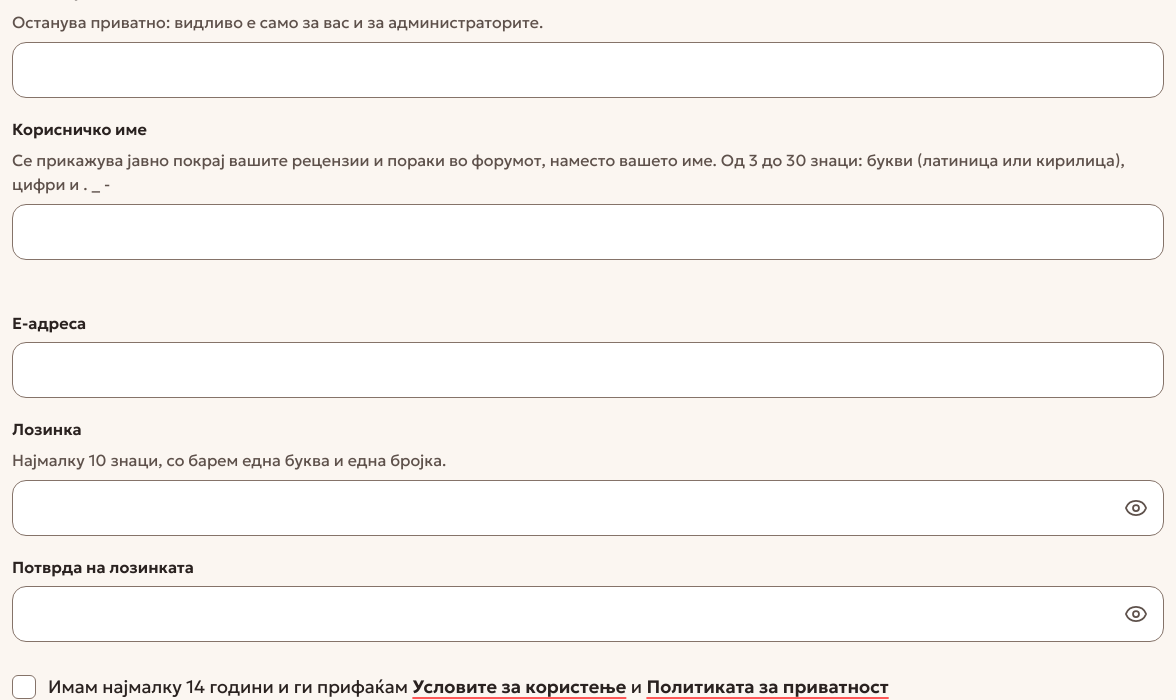
it: RegisterForm › keeps the API's message when the rejection names no field
Type "Ана" into the field labelled "Име и презиме" at (588, 70), box [12,42,1164,98]
Type "ana@example.mk" into the field labelled "Е-адреса" at (588, 370), box [12,342,1164,398]
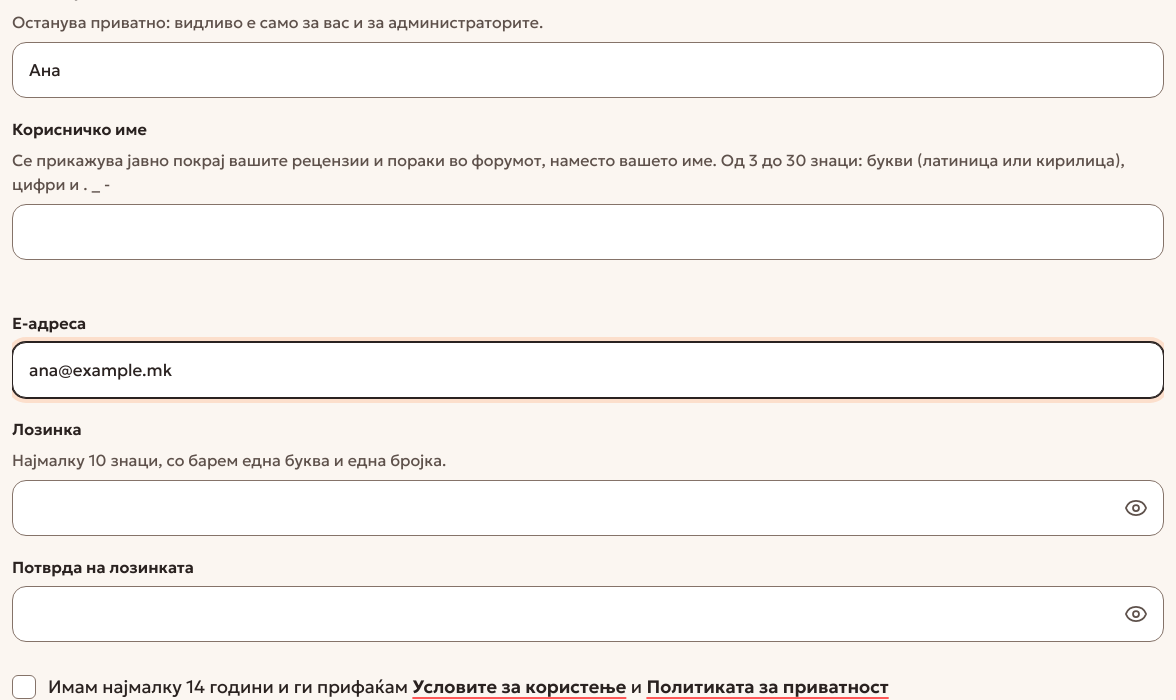
Type "lozinka12345" into the password field labelled "Лозинка" at (588, 508), box [12,480,1164,536]
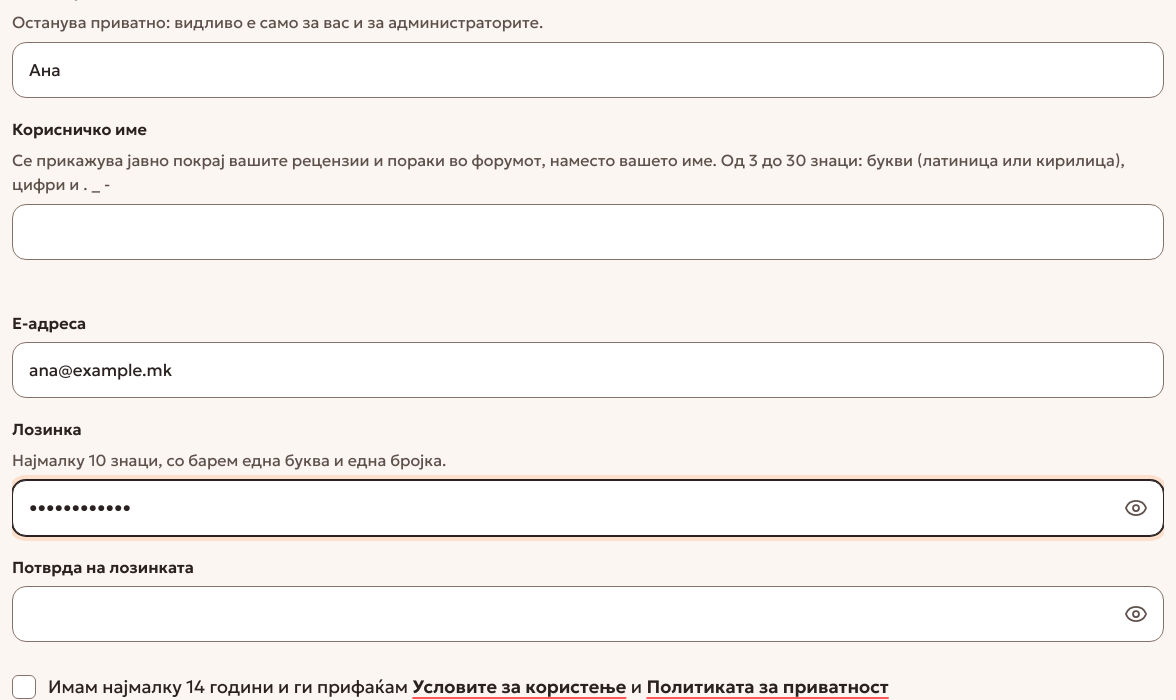
Type "lozinka12345" into the password field labelled "Потврда на лозинката" at (588, 614), box [12,586,1164,642]
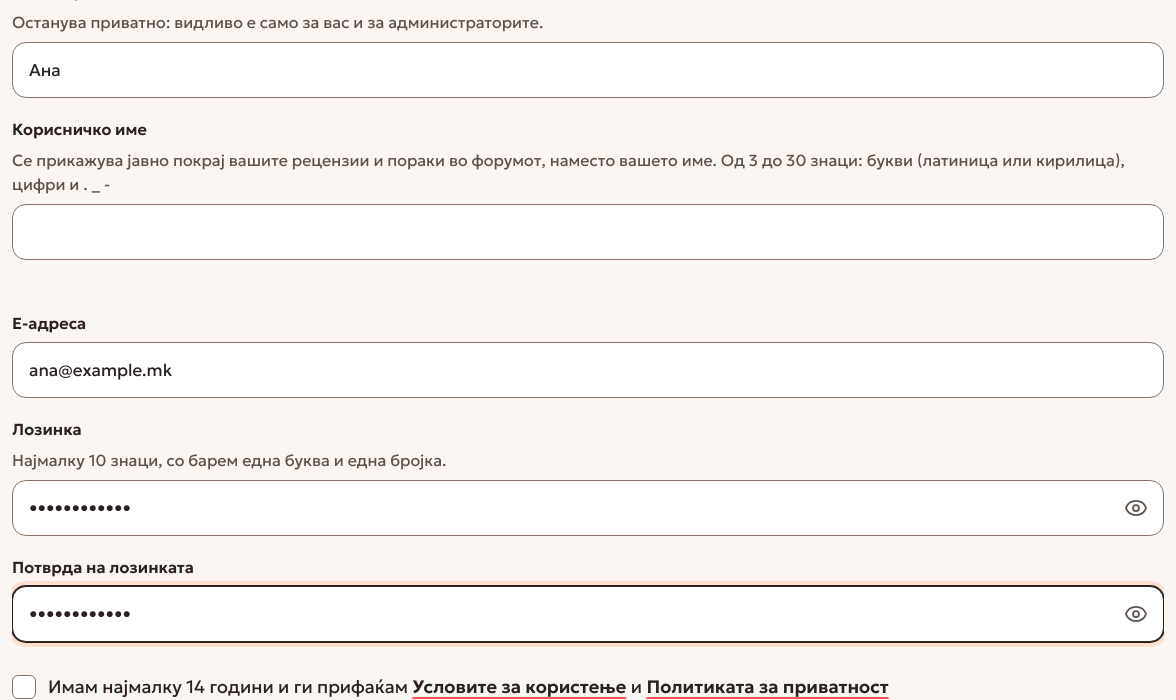
Click the checkbox at (24, 687), box [12,675,36,699]
(page scrolled)
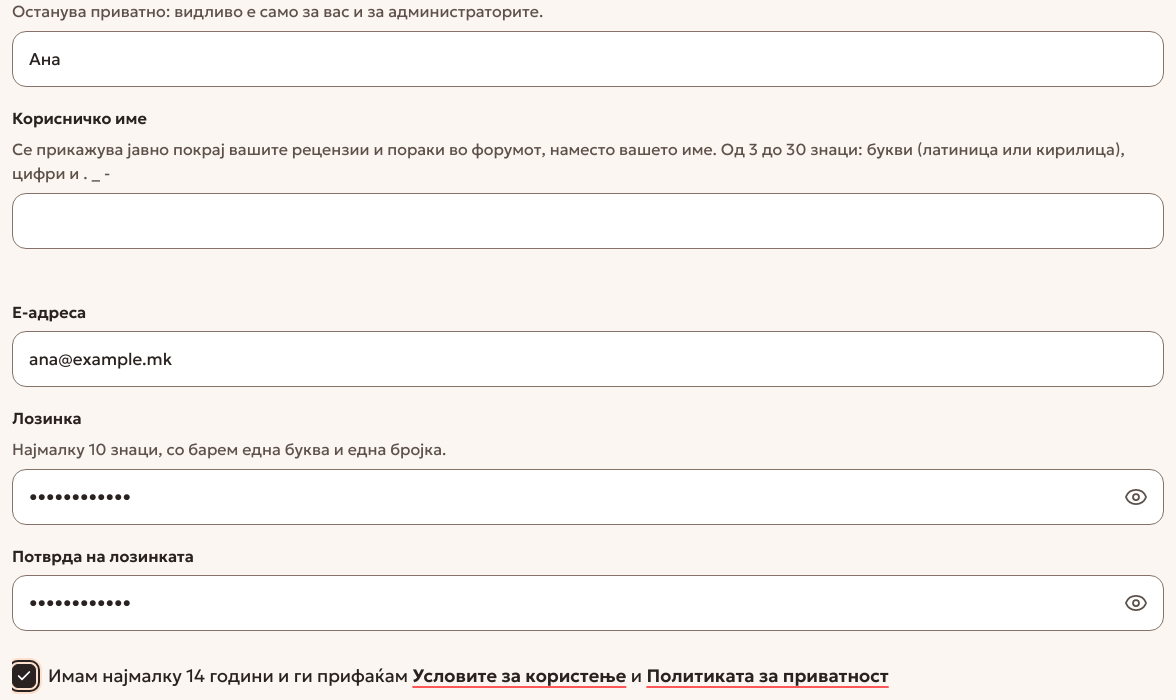
Type "ana_bt" into the field labelled "Корисничко име" at (588, 221), box [12,193,1164,249]
(page scrolled)
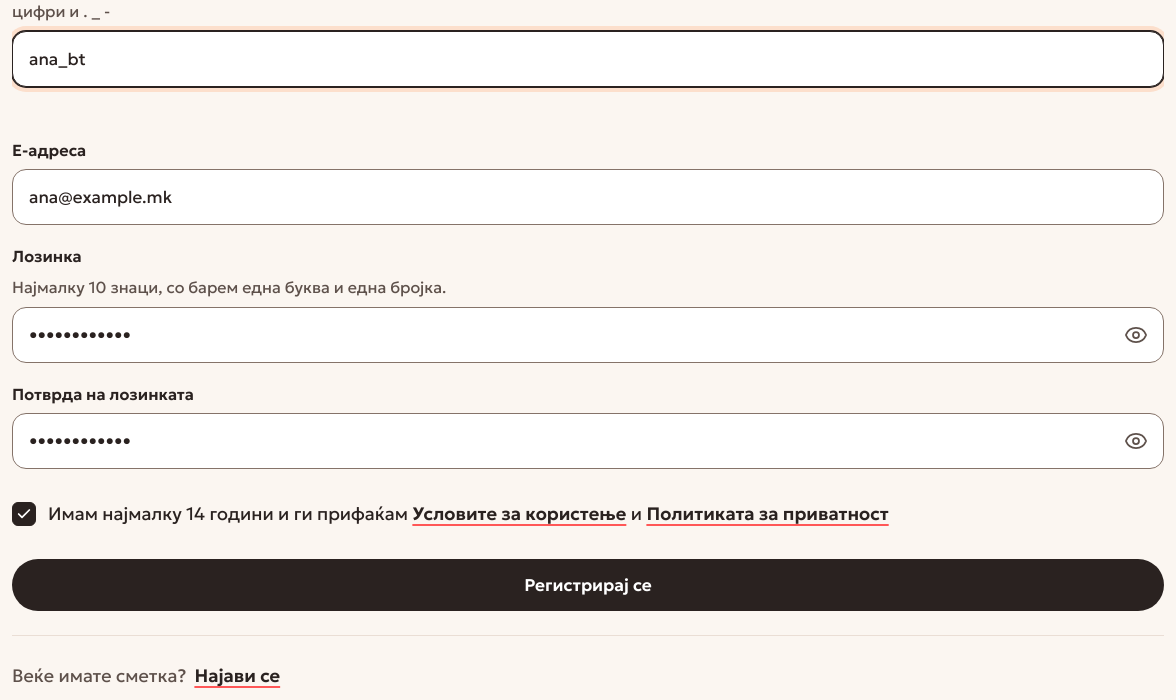
Click the button "Регистрирај се" at (588, 585), box [12,559,1164,611]
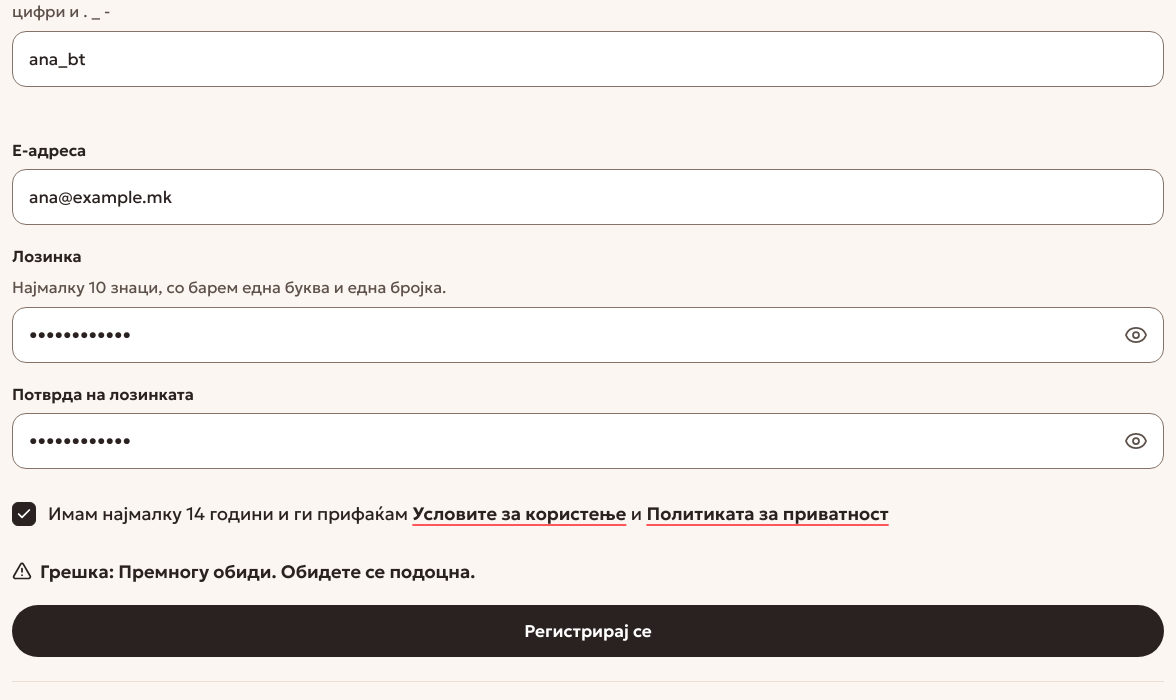
Check: the message "Грешка: Премногу обиди. Обидете се подоцна." is shown, box [12,560,475,583]
